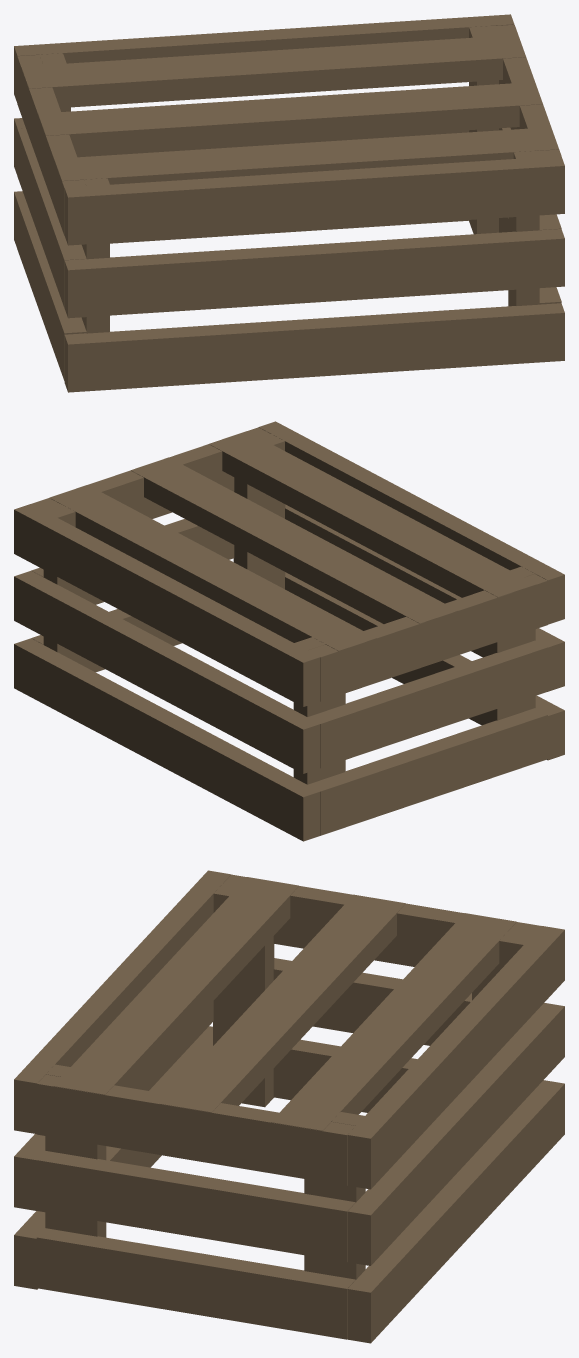
Rendered from Wooden_Crate.fbx.
3 renders of one model, top to bottom at view 1: azimuth 30°, elevation 25°; view 2: azimuth 150°, elevation 25°; view 3: azimuth 270°, elevation 25°, orthographic. The views are drawn at different scales.
Parts seen in each view (by area): view 1: Wooden_Crate; view 2: Wooden_Crate; view 3: Wooden_Crate.
Part boxes in pixels (x1=…): Wooden_Crate: x1=14, y1=14, x2=564, y2=392; Wooden_Crate: x1=14, y1=421, x2=564, y2=841; Wooden_Crate: x1=14, y1=870, x2=564, y2=1343.
Size of the model in its own units: 2.89 by 1.04 by 2.51.
